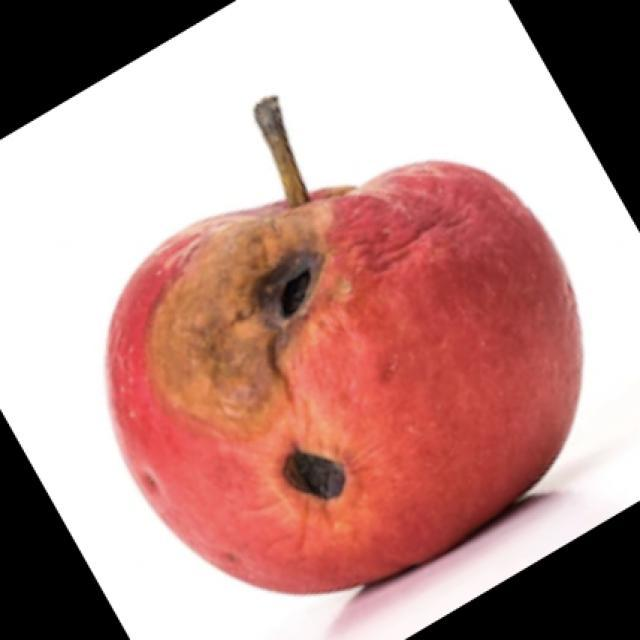Rotten: (72, 160, 578, 595)
